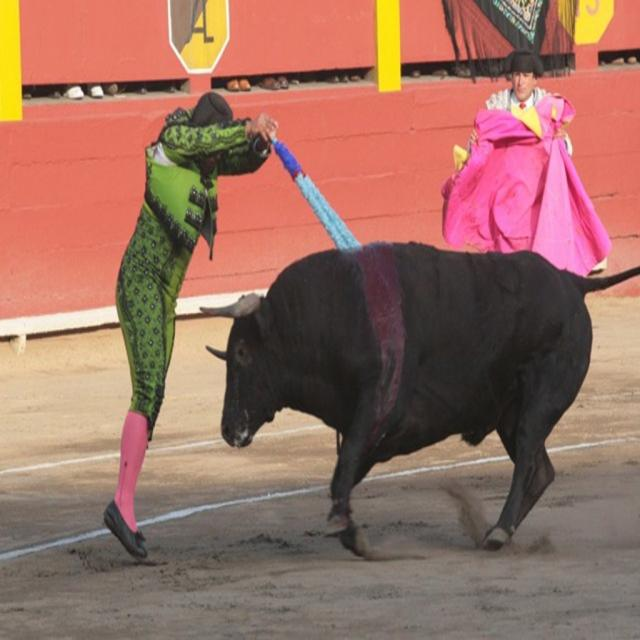Bull: (196, 240, 639, 562)
